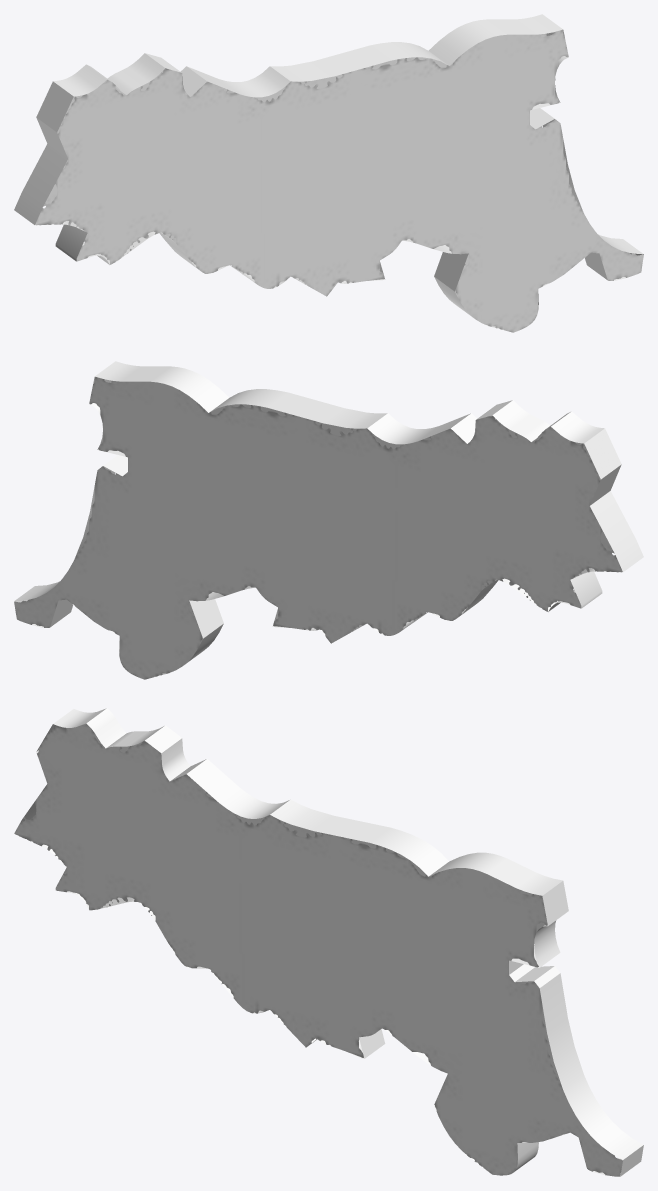
File: Emilia-Romagna.obj
The picture shows the model from 3 angles, top to bottom: view 1: azimuth 30°, elevation 25°; view 2: azimuth 150°, elevation 25°; view 3: azimuth 330°, elevation 25°; orthographic projection.
Bounding box in the file's own units: 219 × 121 × 13.
3 materials, 3 textured.
